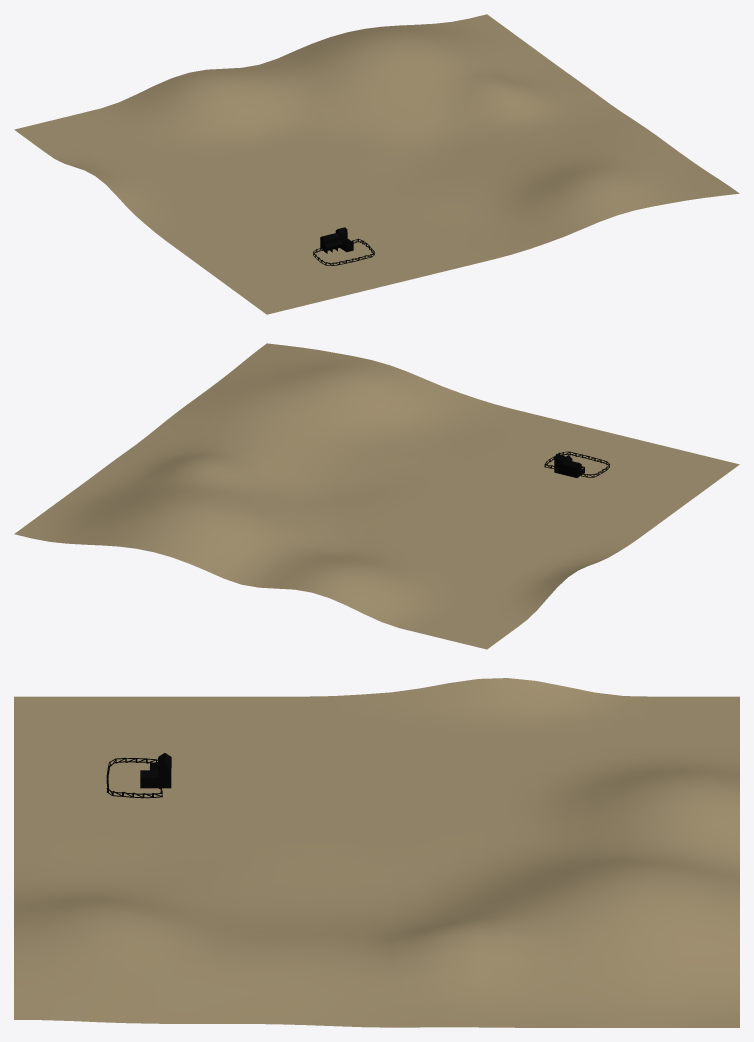
File: GroundPlane.fbx
3 views of the same model, one above another, from view 1: azimuth 30°, elevation 25°; view 2: azimuth 150°, elevation 25°; view 3: azimuth 270°, elevation 25° (orthographic). The views are drawn at different scales.
Visible parts, largest first — view 1: GroundPlane; view 2: GroundPlane; view 3: GroundPlane.
Part boxes in pixels (x1,y1,x2,y2): GroundPlane: [14, 14, 739, 314]; GroundPlane: [14, 343, 739, 649]; GroundPlane: [14, 678, 739, 1027].
Bounding box in the file's own units: 1359 × 94.34 × 1258.
